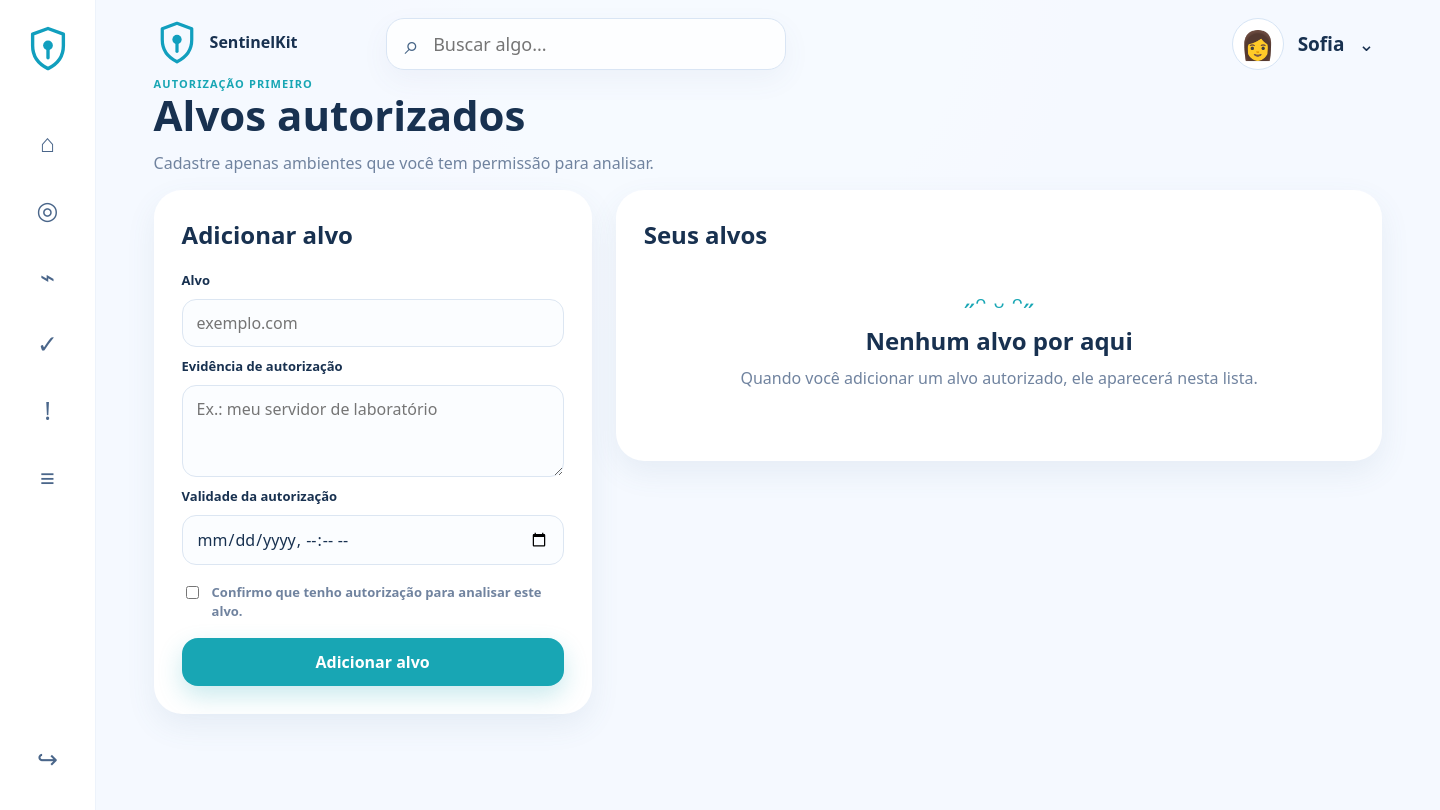
Test: TargetsView › creates an authorized target from accessible fields
Check: the heading "Nenhum alvo por aqui" is shown, box [865, 324, 1133, 358]
In the field labelled "Alvo": (373, 324) [182, 300, 564, 348], type "example.com"
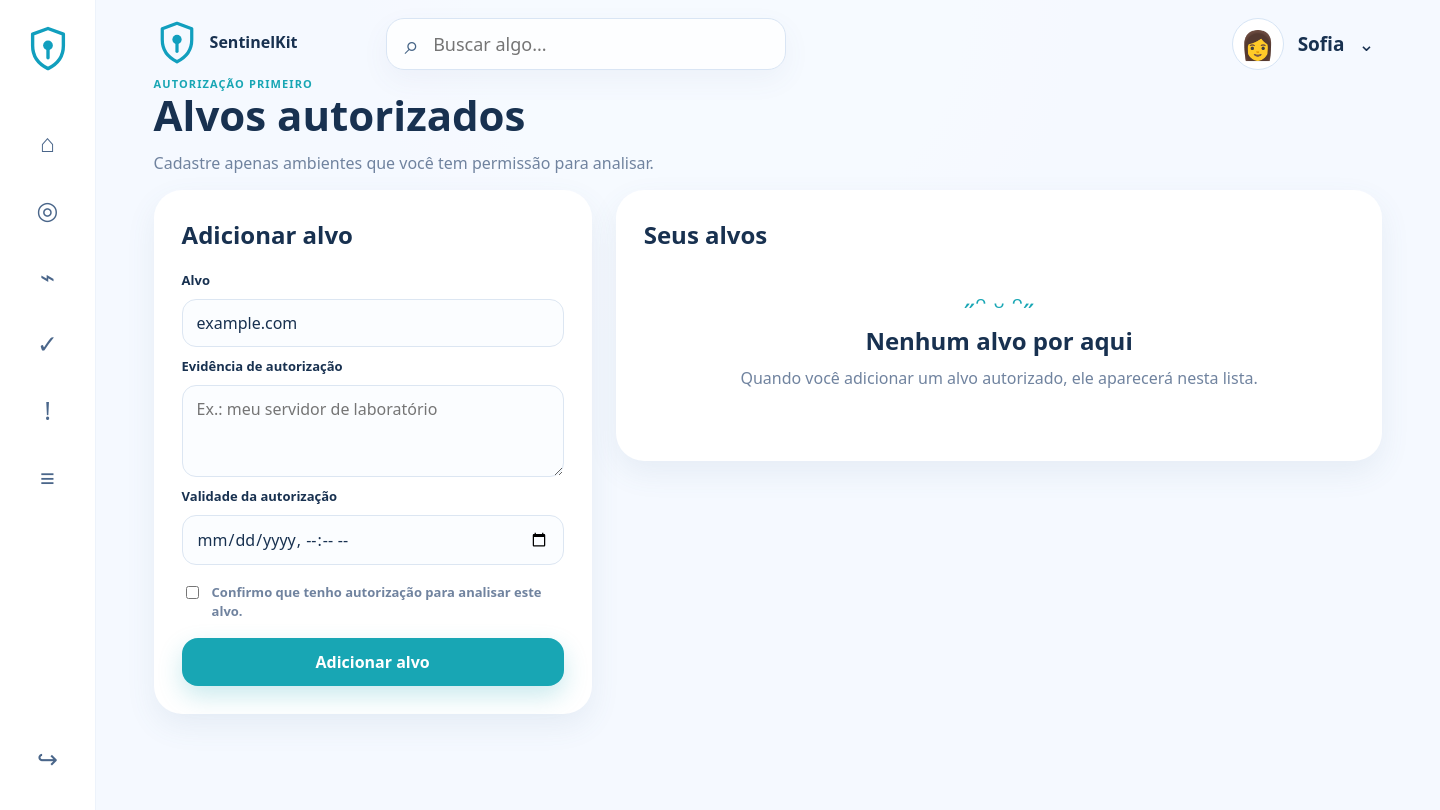
In the text box labelled "Evidência de autorização": (373, 432) [182, 386, 564, 478], type "Meu lab"
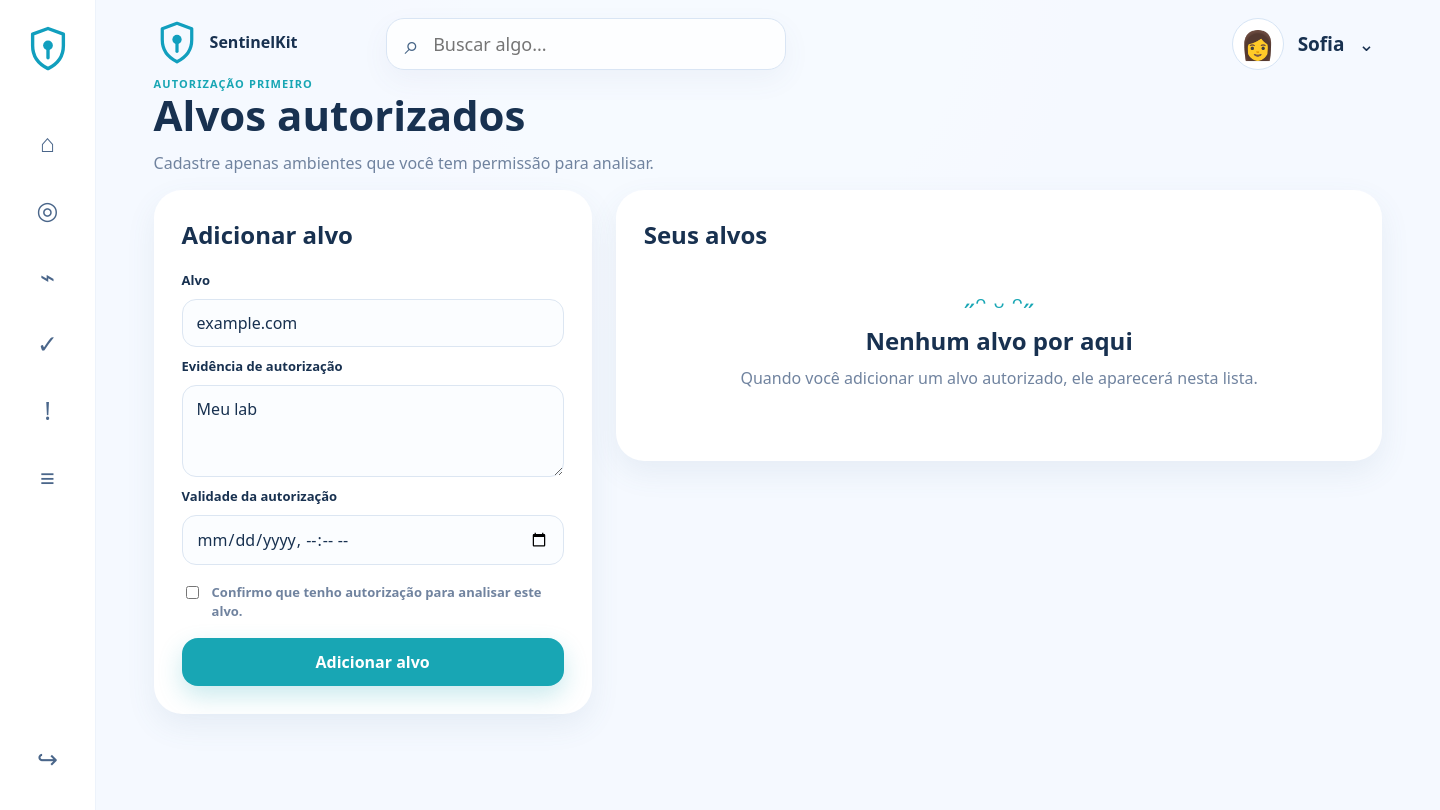
In the field labelled "Validade da autorização": (373, 540) [182, 516, 564, 566], type "2099-01-01T12:00"
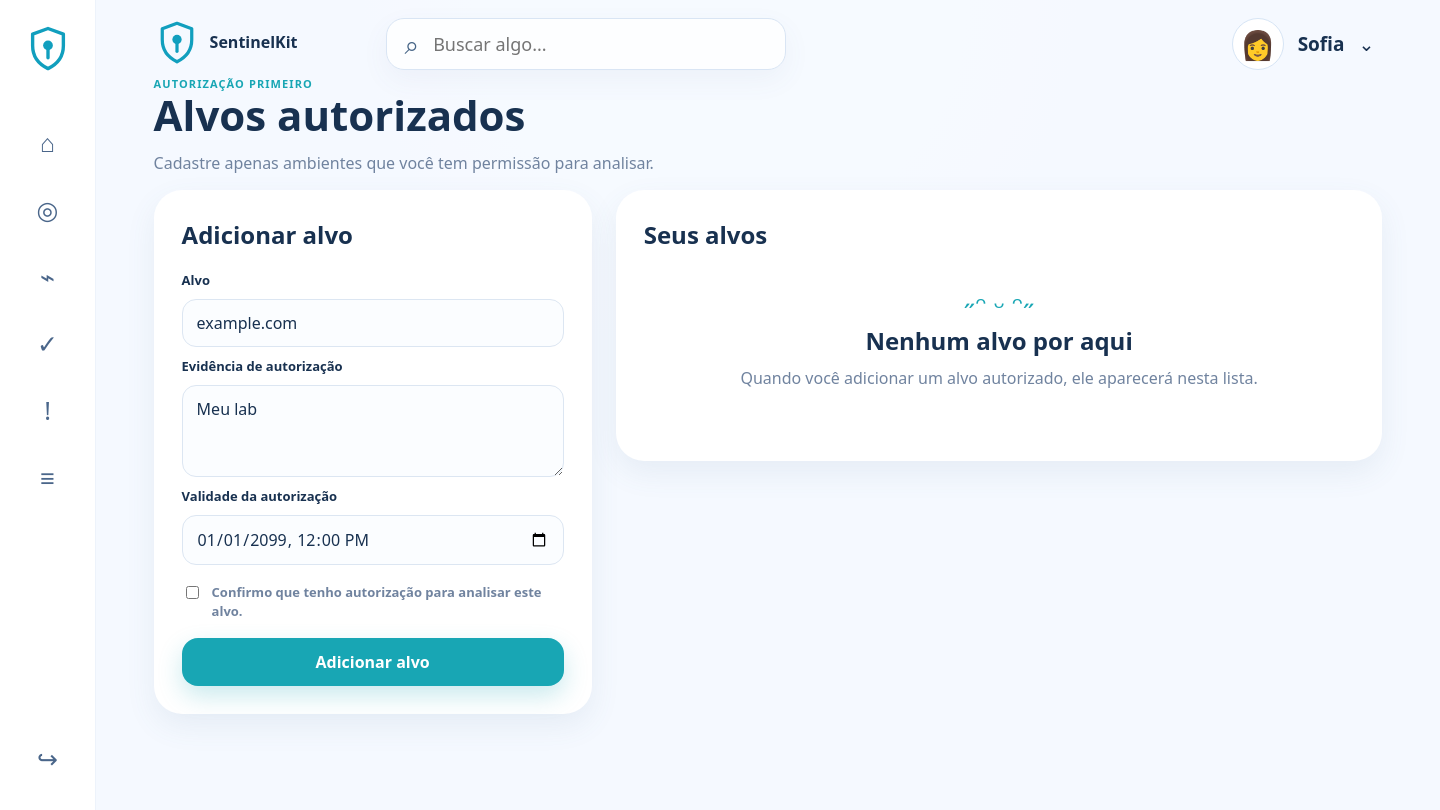
Click the checkbox labelled "Confirmo que tenho autorização para analisar este alvo.": (192, 593) [186, 586, 199, 600]
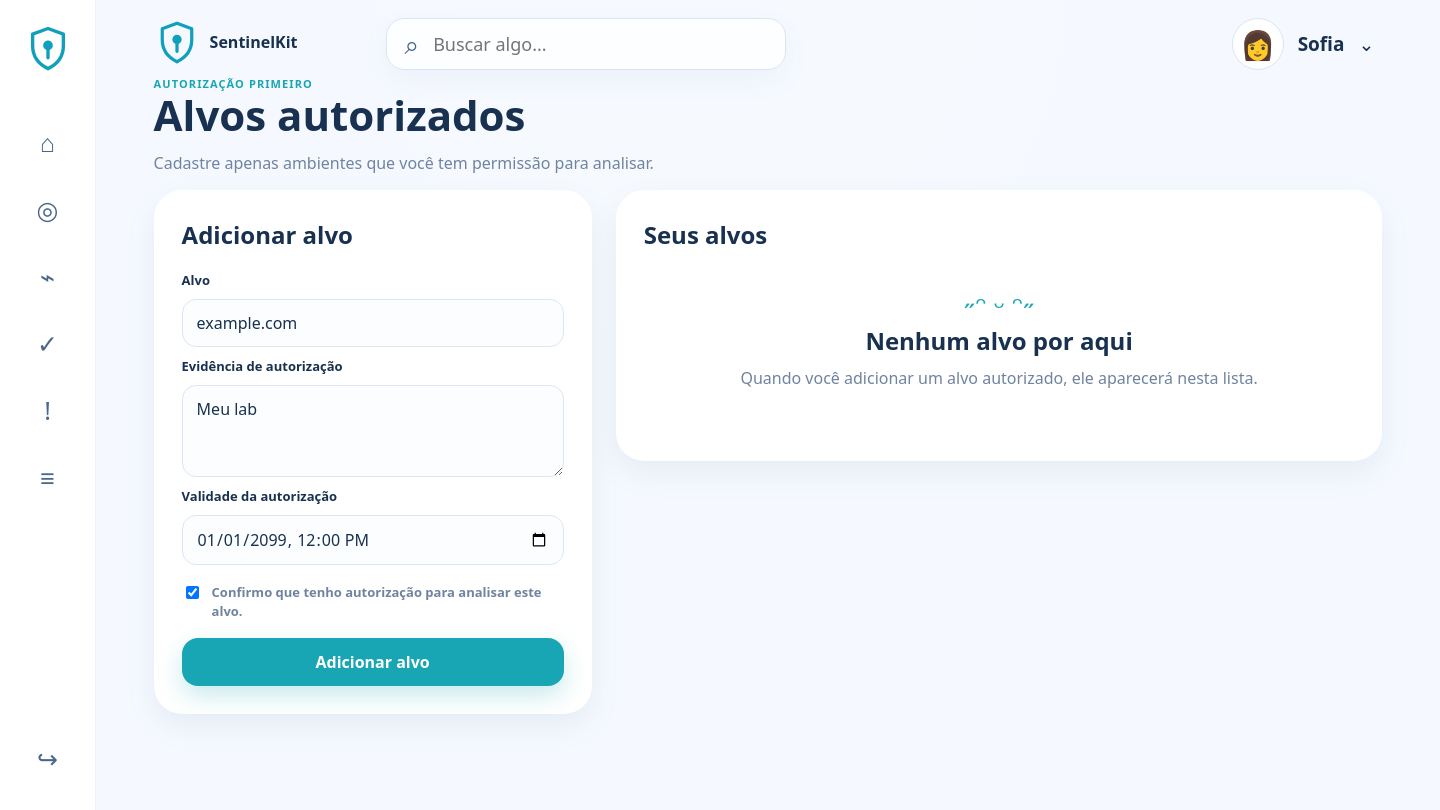
Click the button "Adicionar alvo": (373, 662) [182, 638, 564, 686]
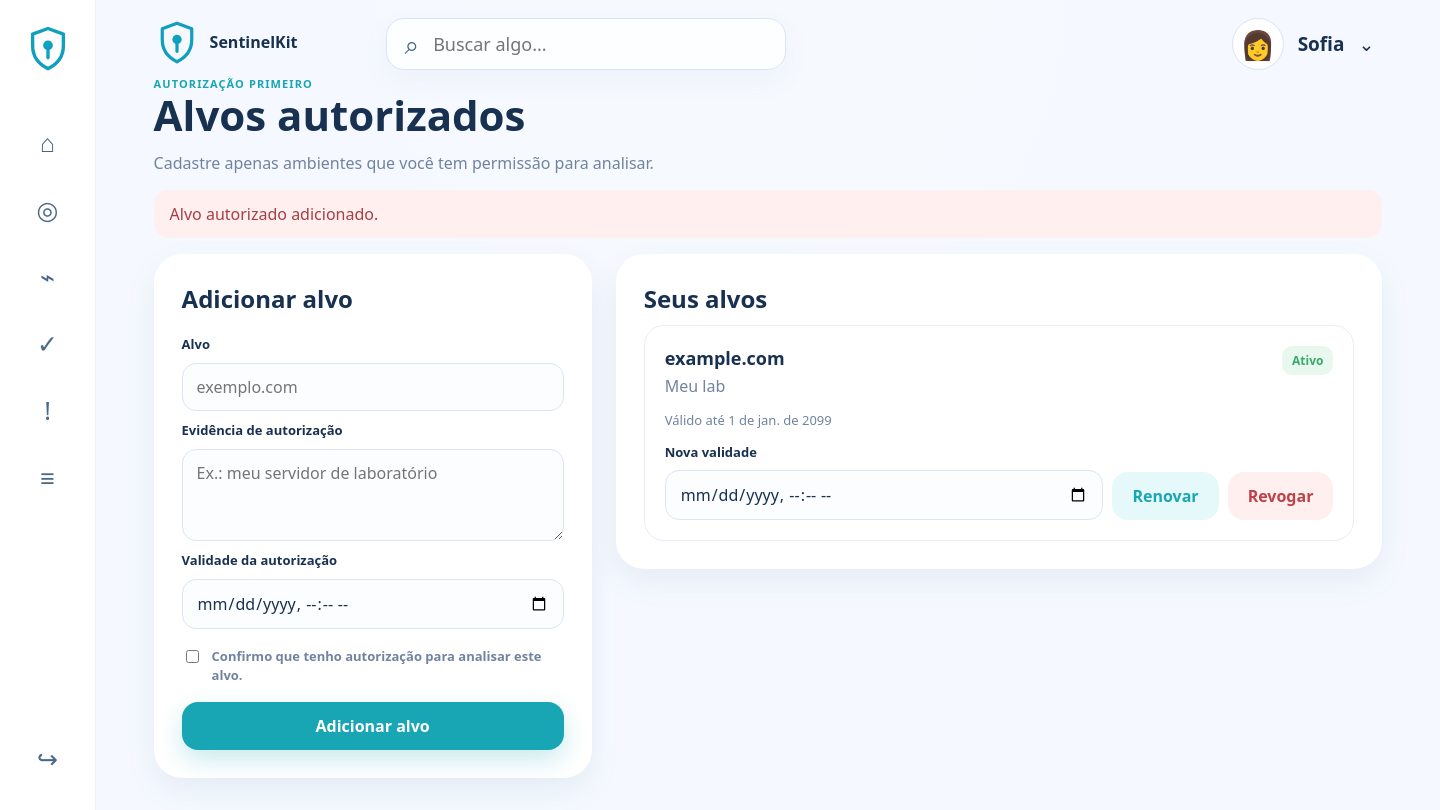
Check: the text "example.com" is shown, box [665, 346, 785, 370]
Check: the text "Ativo" is shown, box [1282, 346, 1333, 376]
